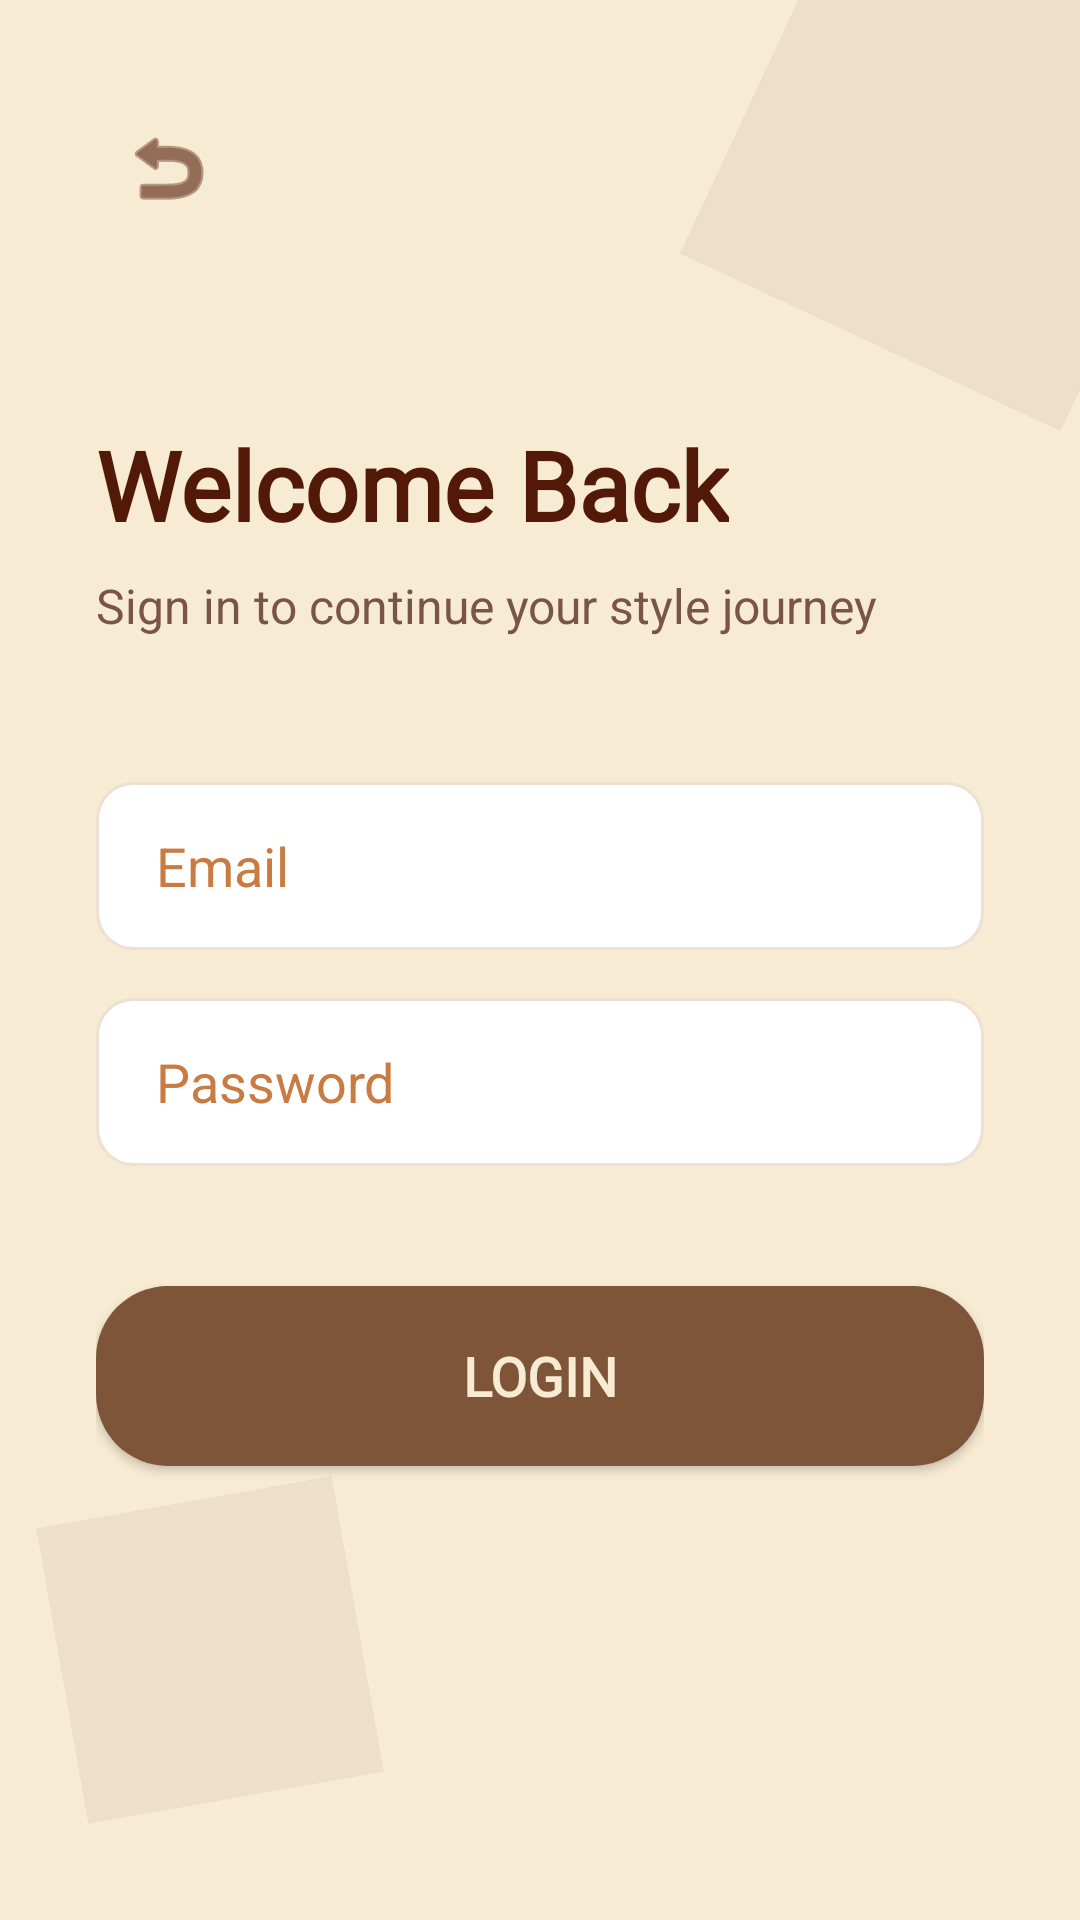

Point at icon controls on the screen. Image size 1080×1920, points as [x,y].
Back: [169,168]
